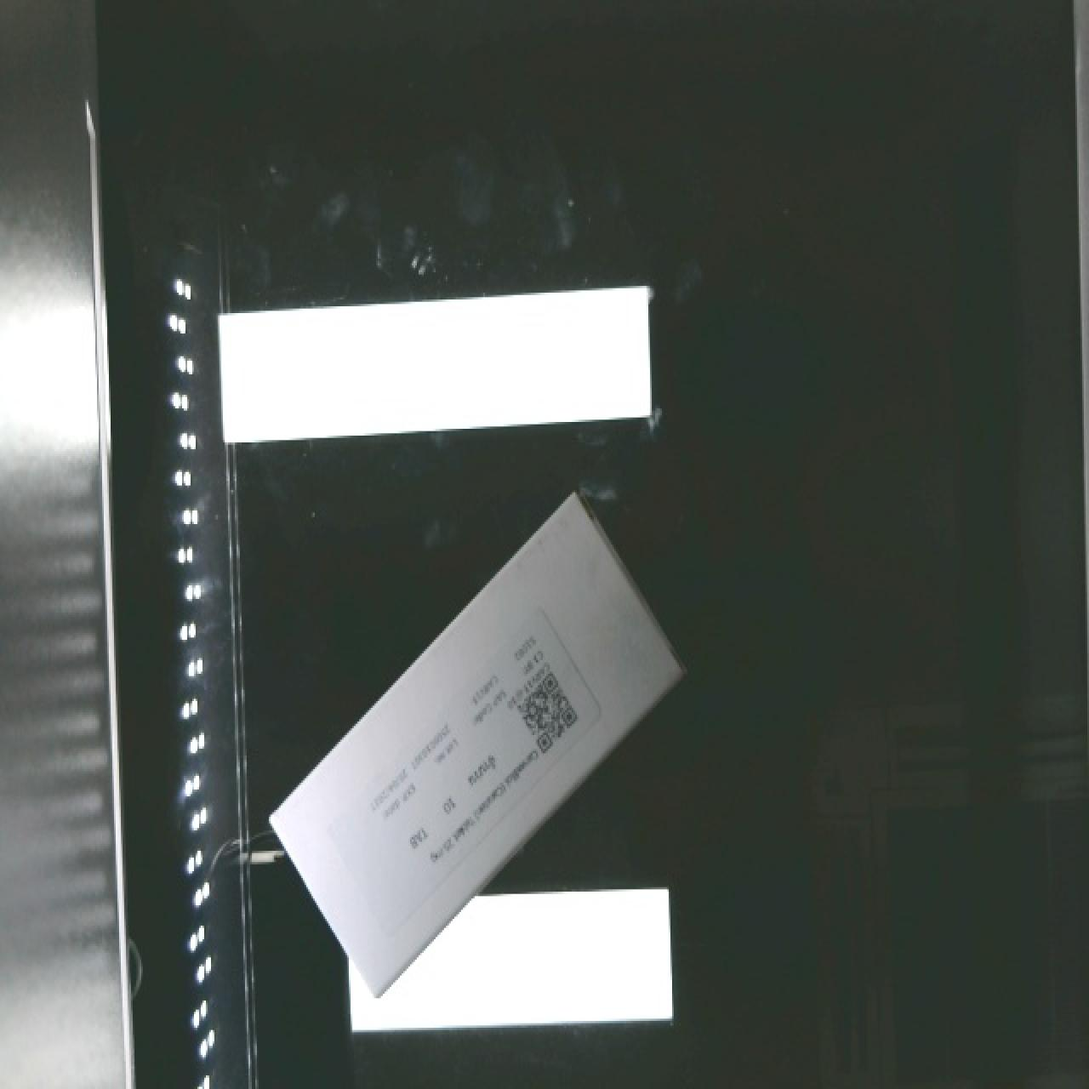qr_code: (494, 654, 602, 766)
